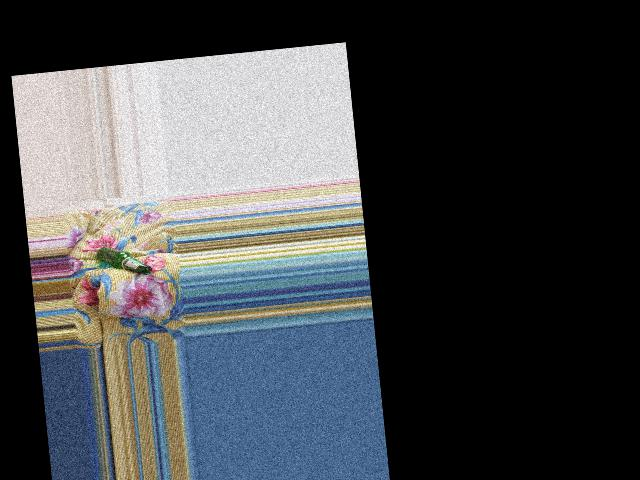beer: (96, 242, 151, 279)
